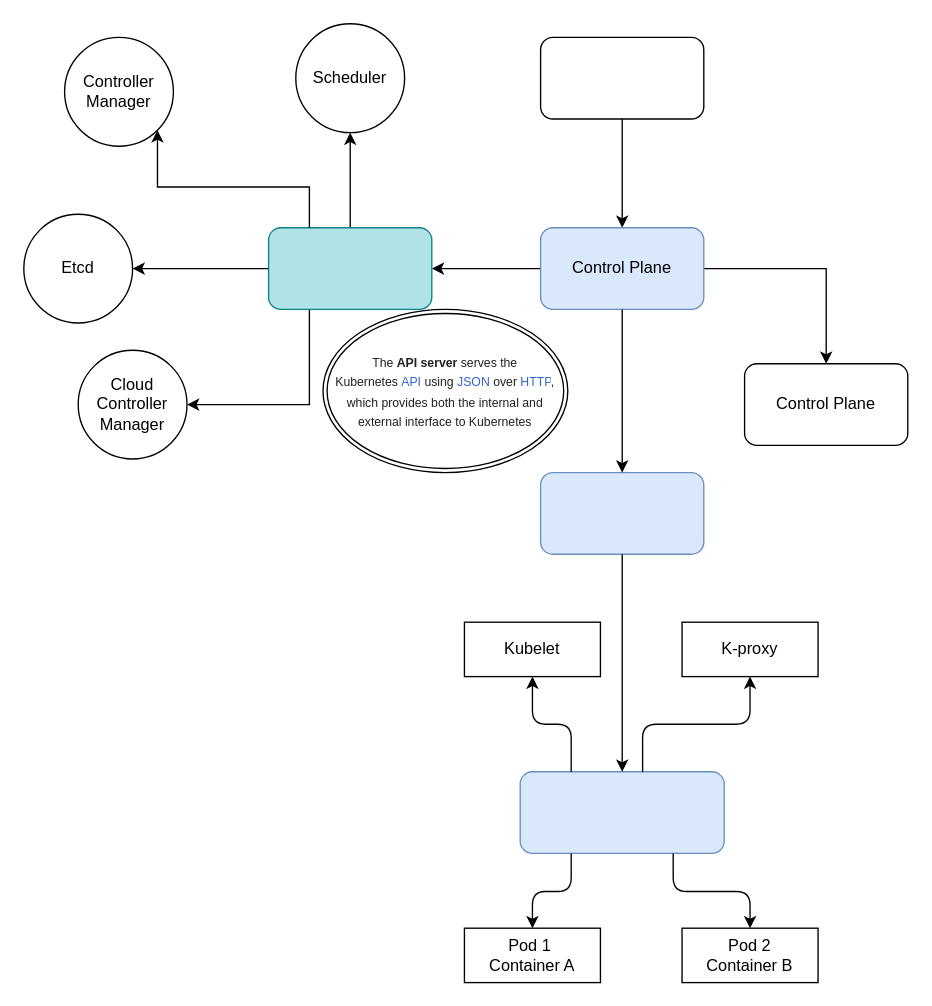
The diagram is 932 pixels wide and 1006 high, and some of its shapes have lost their labels. The shapes that lost their labels are listed below. From the top down, each one's box as (x1, y1, x2, y2) in pixels, then its label:
(539, 36, 704, 119): Client
(267, 226, 432, 309): API Server
(539, 471, 704, 554): Worker Node
(519, 770, 724, 853): Container runtime
